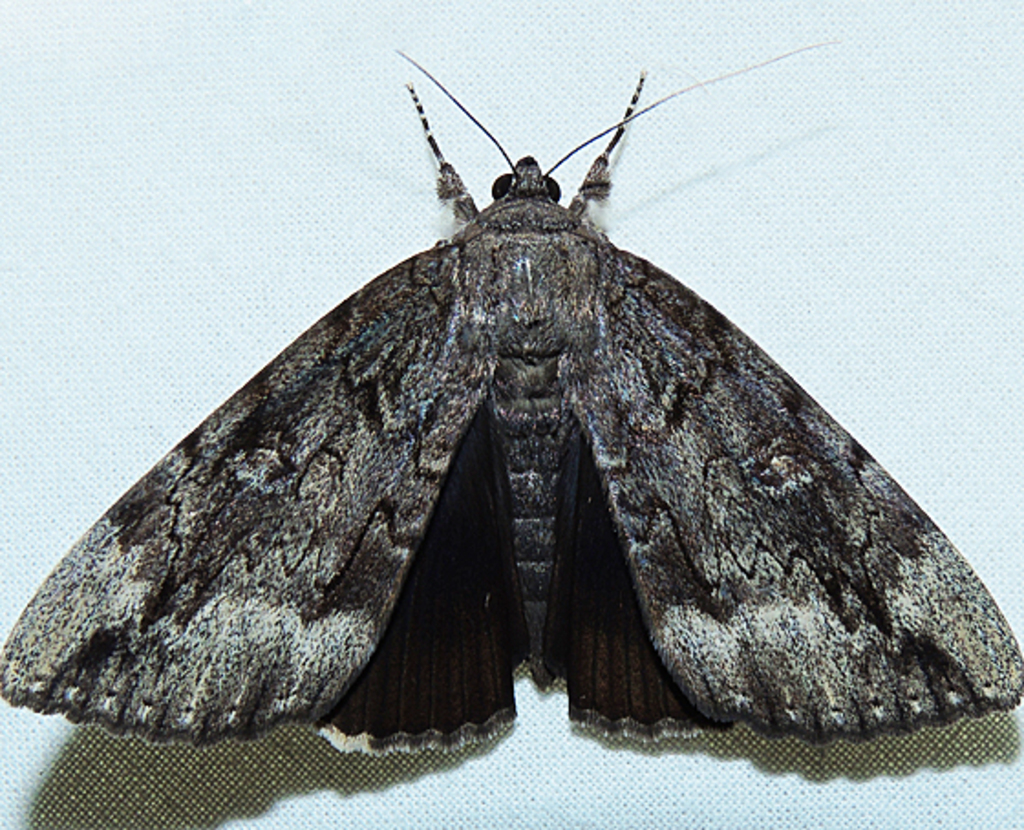Butterfly: (15, 56, 1024, 830)
